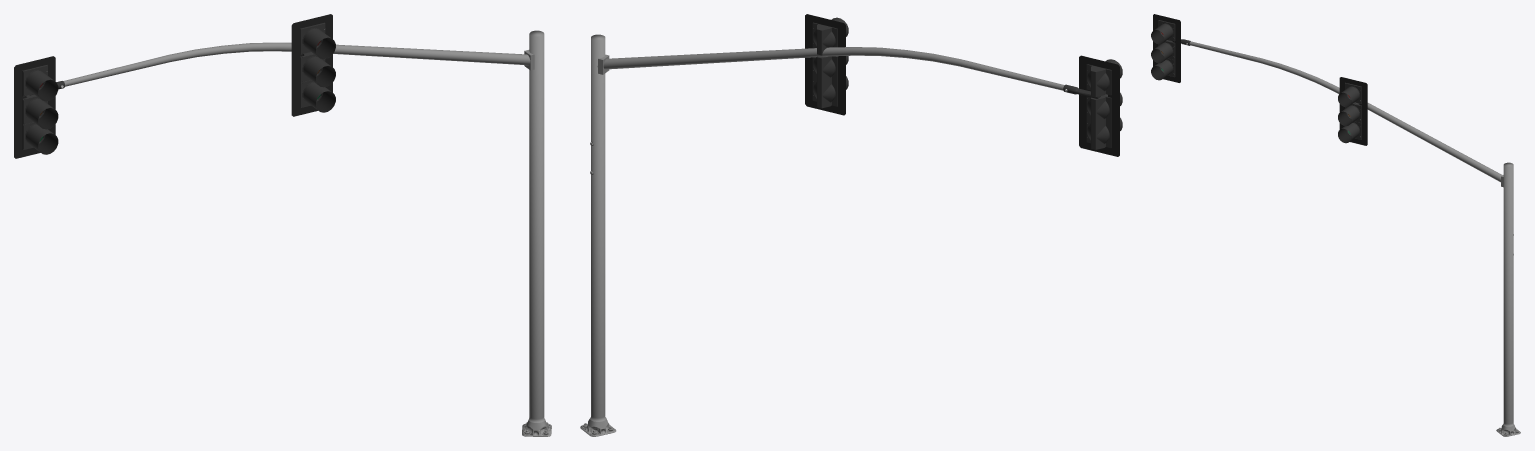
The model's file is semaforo.fbx.
3 renders of one model, left to right at view 1: azimuth 30°, elevation 25°; view 2: azimuth 150°, elevation 25°; view 3: azimuth 330°, elevation 25°, orthographic. The views are drawn at different scales.
Visible parts, largest first — view 1: Cylinder_27.001, Plane.005, Plane.004, Cube.010, Cube.008, 12inch_Alusig.004, 12inch_Alusig.001, Cube.011, Cube.007; view 2: Cylinder_27.001, Plane.005, Plane.004, Cube.010, Cube.008, 12inch_Alusig.004, Cube.007, Cube.011, 12inch_Alusig.001; view 3: Cylinder_27.001, Plane.004, Plane.005, Cube.010, Cube.008, 12inch_Alusig.004, 12inch_Alusig.001, Cube.011, Cube.007.
Boxes of the visible parts, x1,y1,x2,y2 form: Cylinder_27.001: (63,30,551,436); Plane.005: (14,56,55,158); Plane.004: (291,14,332,116); Cube.010: (22,65,58,101); Cube.008: (300,22,335,59); 12inch_Alusig.004: (22,94,58,129); 12inch_Alusig.001: (300,52,335,87); Cube.011: (22,122,58,154); Cube.007: (300,80,335,112); Cylinder_27.001: (580,34,1064,436); Plane.005: (1079,55,1119,156); Plane.004: (805,14,845,115); Cube.010: (1086,59,1122,96); Cube.008: (812,17,848,55); 12inch_Alusig.004: (1086,92,1122,124); Cube.007: (812,76,848,108); Cube.011: (1086,117,1122,149); 12inch_Alusig.001: (812,56,848,83); Cylinder_27.001: (1189,41,1520,436); Plane.004: (1339,77,1367,145); Plane.005: (1153,14,1180,82); Cube.010: (1151,20,1175,44); Cube.008: (1338,82,1361,107); 12inch_Alusig.004: (1151,40,1175,63); 12inch_Alusig.001: (1338,102,1361,126); Cube.011: (1151,58,1175,80); Cube.007: (1338,121,1361,143).
Size of the model in its own units: 868 by 758 by 71.18.
Materials: 15 (3 with a texture image).
